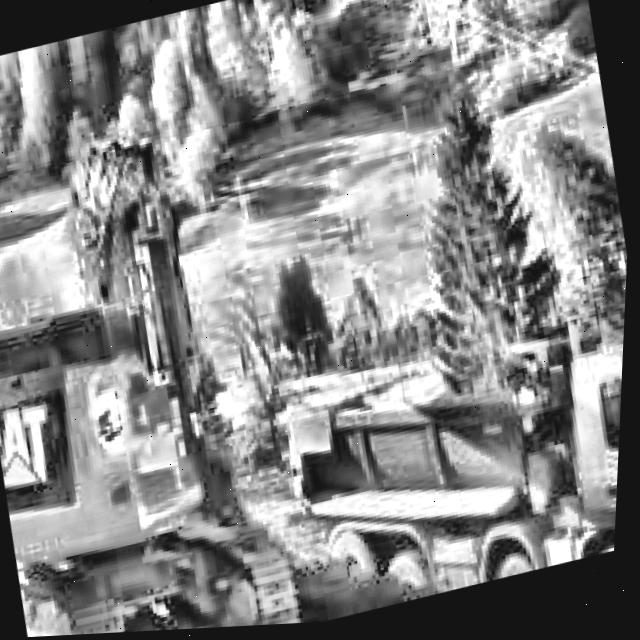dump_truck: (265, 299, 629, 628)
excavator: (0, 102, 325, 640)
